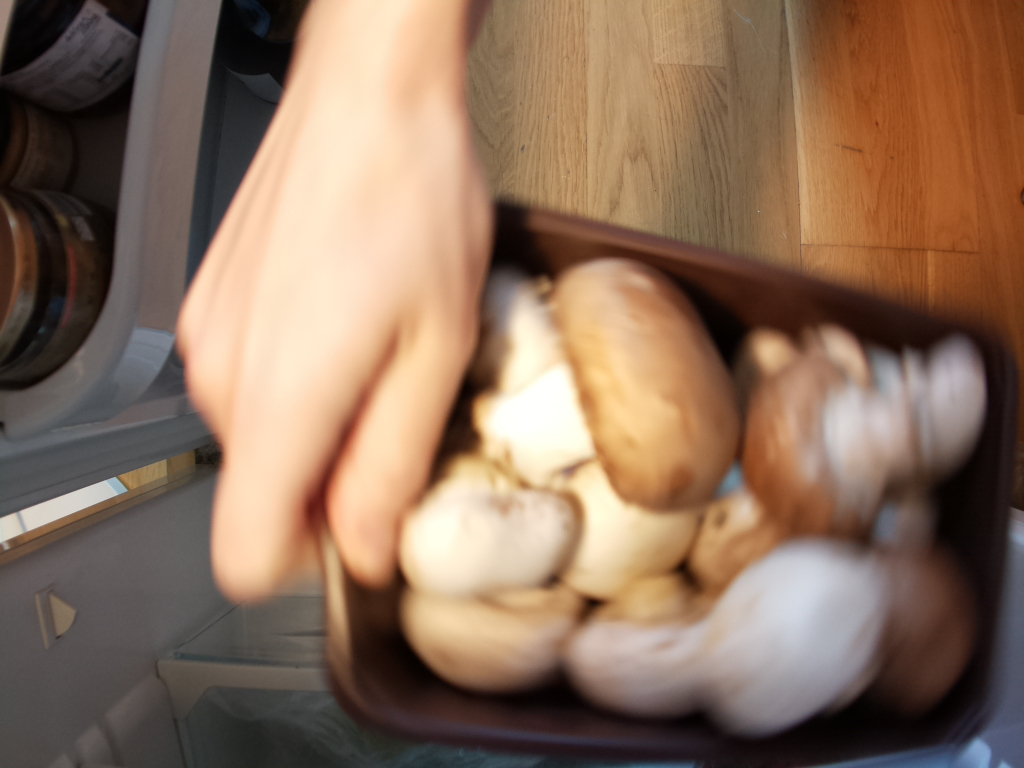mushrooms: (320, 200, 1022, 760)
